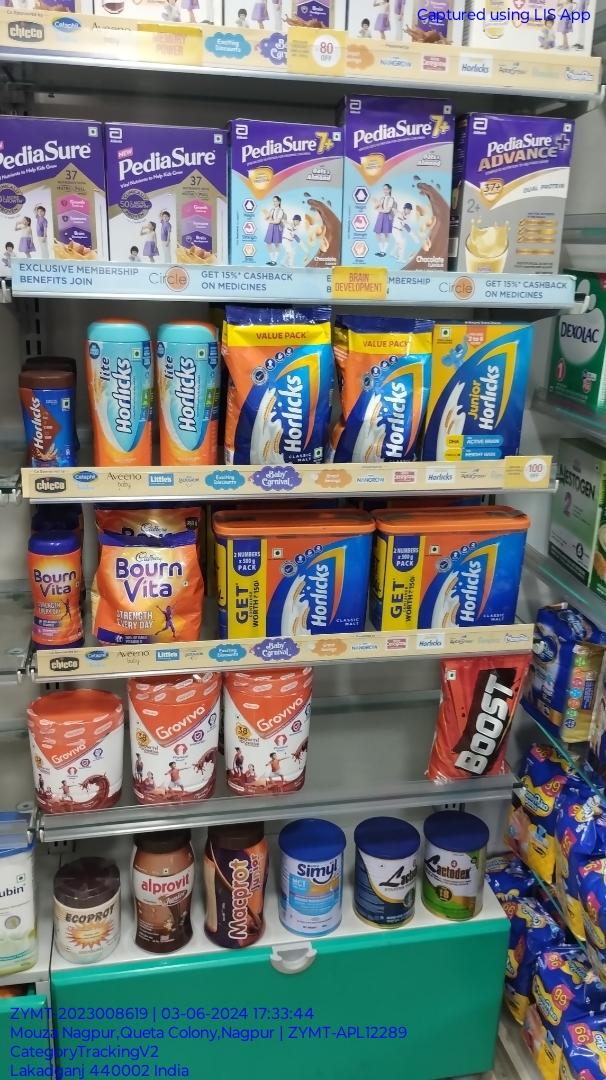BOURN_VITA_500_G_JAR: (27, 535, 85, 649)
BOURN_VITA_750_G_POUCH: (96, 533, 205, 643)
HORLICKS_LITE_REGULAR_MALT_500_GM_JAR: (87, 321, 148, 468), (160, 324, 217, 466)
HORLICK_CHOCOLATE_200_G_JAR: (21, 379, 77, 468)
HORLICK_CLASSIC_MALT_750_G_POUCH: (228, 306, 326, 462), (340, 316, 422, 463)
HORLICK_MALT_1_KG_CONTAINER: (218, 525, 366, 631), (380, 524, 522, 626)
PEDIASURE_7_PLUS_CHOCOLATE_400_G_PACK: (236, 120, 341, 266)
